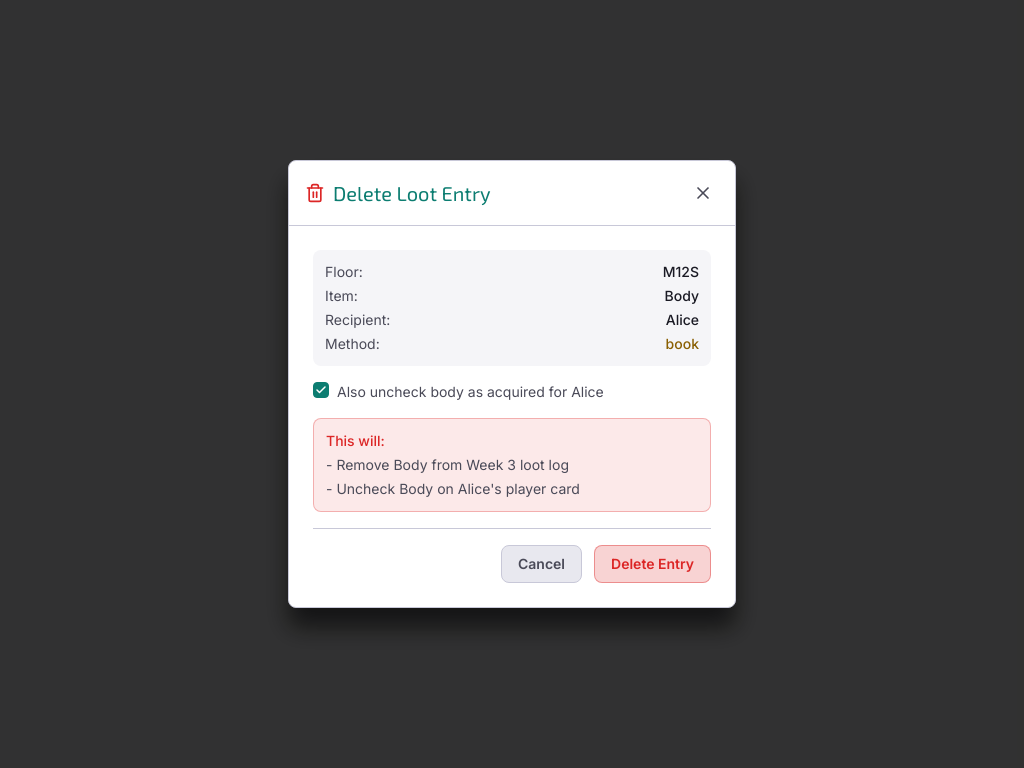
Test case: DeleteLootConfirmModal — R-E2-N (Book revert) › the preview line agrees with the checkbox: present while checked, gone when unchecked
expect the list item "- Uncheck Body on Alice's player card" is shown: met, box [326,480,580,497]
What coordinates should you click on to do the following:
click the 2nd checkbox
I would click on:
 (321, 390)
Its box is [313,382,329,398].
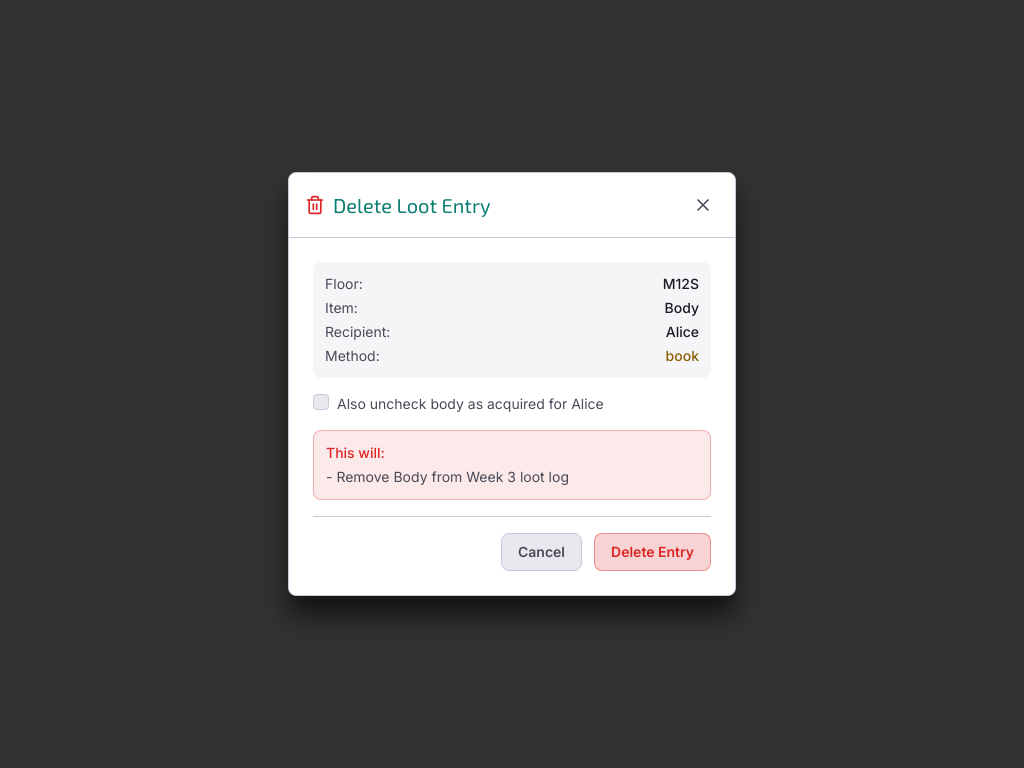
expect the list item "- Uncheck Body on Alice's player card" is gone: met
